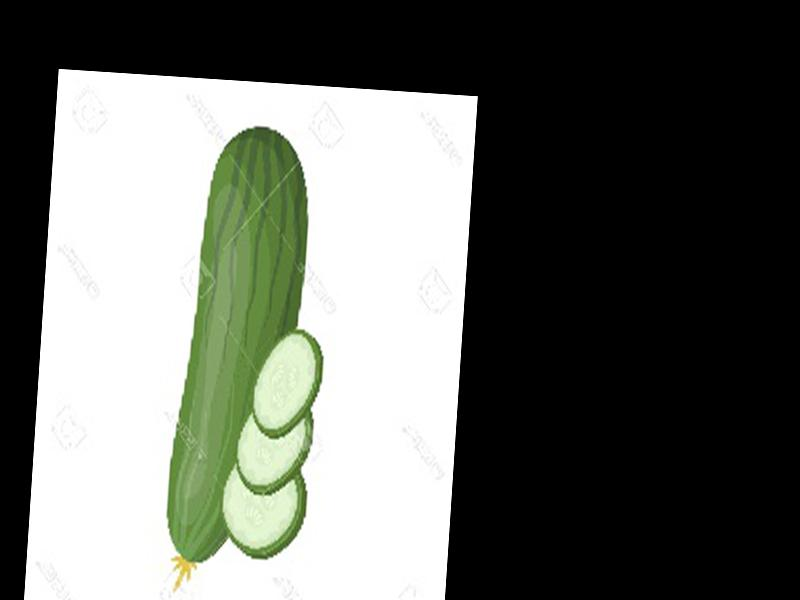Cucumber: (162, 119, 314, 595)
